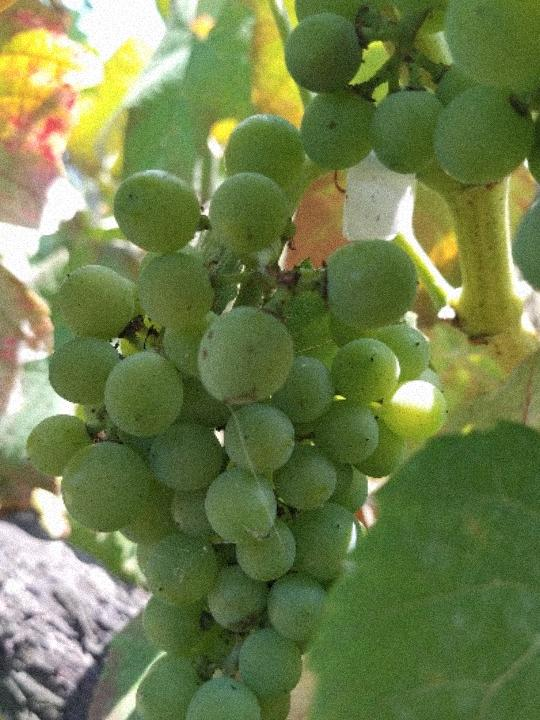grape: (23, 113, 453, 720)
